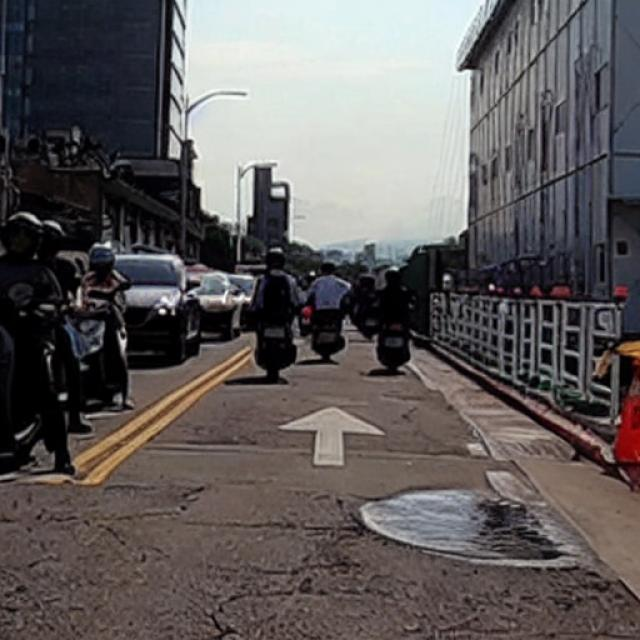puddle: (363, 485, 574, 571)
